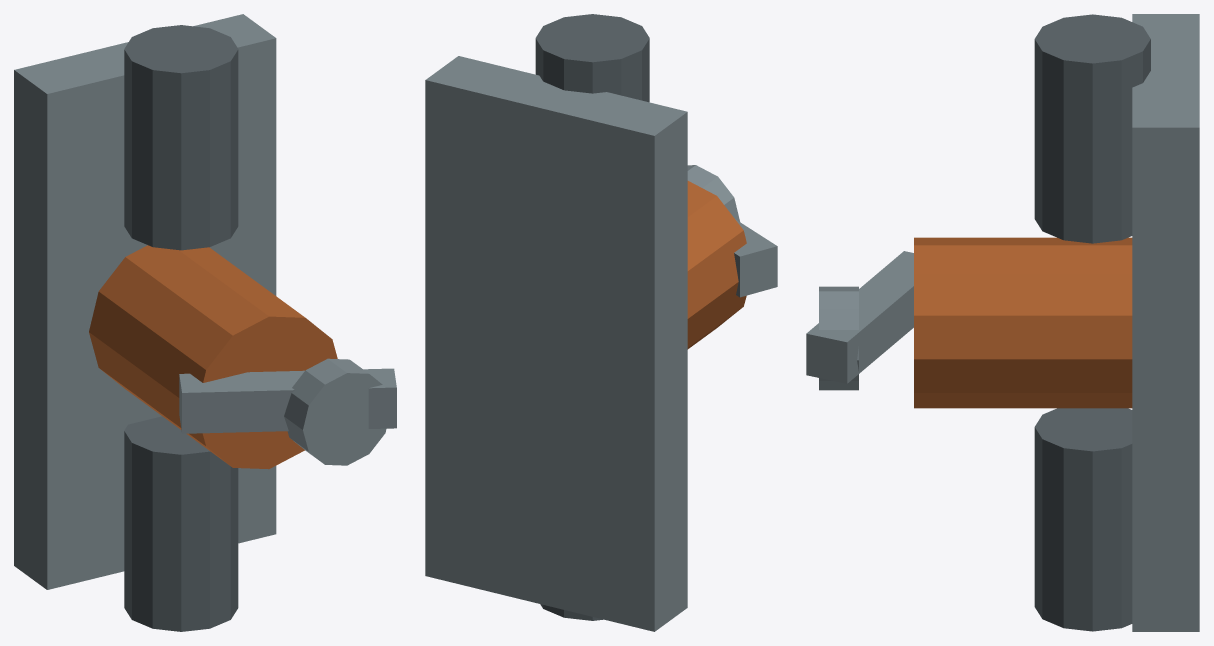
File: primitive-steam-powered-pump.obj
The picture shows the model from 3 angles, left to right: view 1: azimuth 30°, elevation 25°; view 2: azimuth 150°, elevation 25°; view 3: azimuth 270°, elevation 25°; orthographic projection.
Visible parts, largest first — view 1: primitive-steam-powered-pump_footplate, primitive-steam-powered-pump_pump_body, primitive-steam-powered-pump_outlet_pipe, primitive-steam-powered-pump_inlet_pipe, primitive-steam-powered-pump_piston_arm, primitive-steam-powered-pump_valve; view 2: primitive-steam-powered-pump_footplate, primitive-steam-powered-pump_outlet_pipe, primitive-steam-powered-pump_pump_body, primitive-steam-powered-pump_piston_arm, primitive-steam-powered-pump_valve; view 3: primitive-steam-powered-pump_footplate, primitive-steam-powered-pump_pump_body, primitive-steam-powered-pump_outlet_pipe, primitive-steam-powered-pump_inlet_pipe, primitive-steam-powered-pump_piston_arm, primitive-steam-powered-pump_valve.
Boxes of the visible parts, box(x1,y1,x2,y2) form: primitive-steam-powered-pump_footplate: box(14, 14, 276, 589); primitive-steam-powered-pump_pump_body: box(89, 245, 337, 469); primitive-steam-powered-pump_outlet_pipe: box(124, 25, 238, 250); primitive-steam-powered-pump_inlet_pipe: box(124, 416, 238, 631); primitive-steam-powered-pump_piston_arm: box(179, 368, 396, 433); primitive-steam-powered-pump_valve: box(284, 358, 386, 465); primitive-steam-powered-pump_footplate: box(425, 56, 687, 631); primitive-steam-powered-pump_outlet_pipe: box(535, 14, 649, 102); primitive-steam-powered-pump_pump_body: box(687, 181, 746, 349); primitive-steam-powered-pump_piston_arm: box(734, 219, 777, 297); primitive-steam-powered-pump_valve: box(687, 165, 739, 221); primitive-steam-powered-pump_footplate: box(1132, 14, 1199, 631); primitive-steam-powered-pump_pump_body: box(914, 237, 1132, 408); primitive-steam-powered-pump_outlet_pipe: box(1034, 14, 1150, 243); primitive-steam-powered-pump_inlet_pipe: box(1034, 408, 1132, 631); primitive-steam-powered-pump_piston_arm: box(806, 251, 913, 383); primitive-steam-powered-pump_valve: box(819, 286, 858, 390).
Size of the model in its own units: 0.88 by 2.05 by 1.29.
